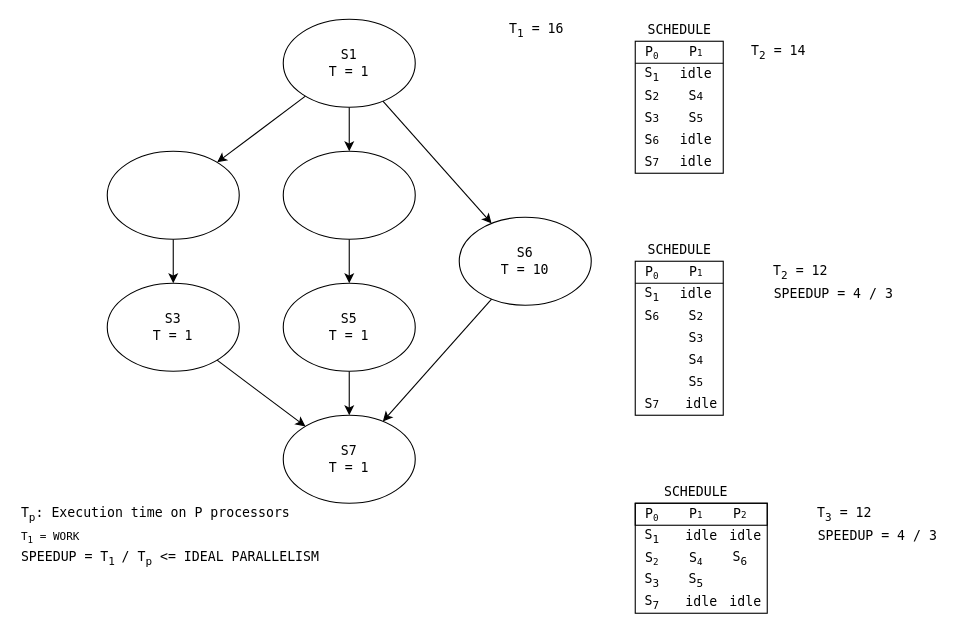
The diagram is 961 pixels wide and 633 high, and some of its shapes have lost their labels. The box of each missing label's shape, as (x1, y1, x2, y2) in pixels:
S2 T = 1: (106, 150, 239, 239)
S4 T = 1: (282, 150, 415, 239)
